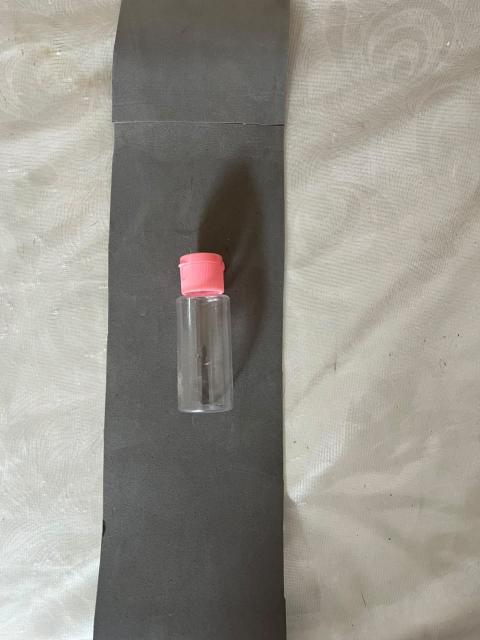PET: (95, 160, 336, 486)
